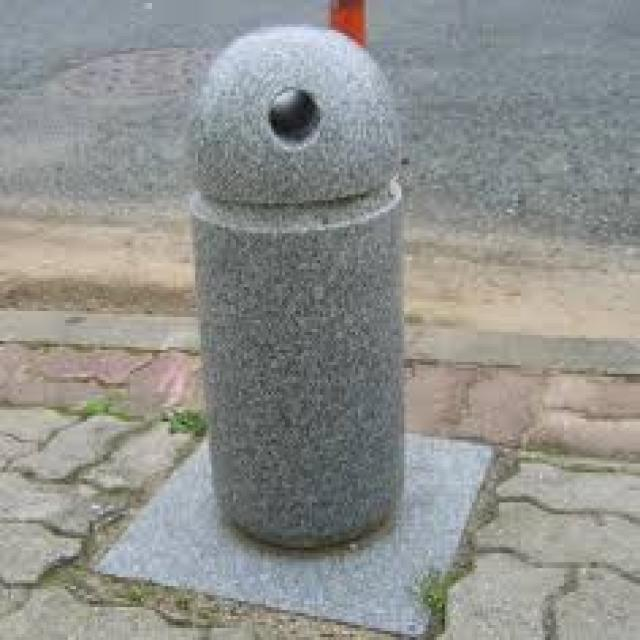bollard: (179, 18, 445, 573)
